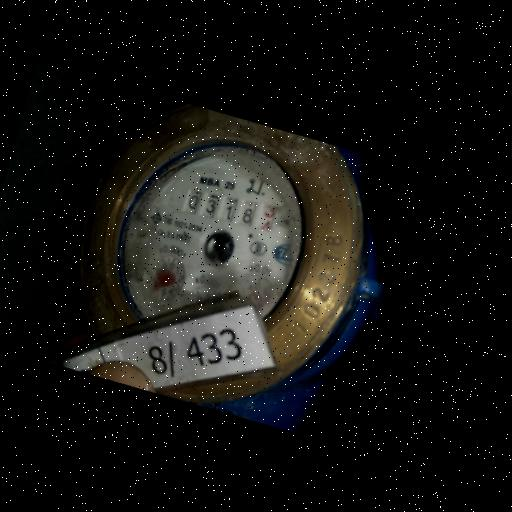0: (183, 188, 200, 214)
1: (220, 196, 236, 222)
3: (258, 203, 277, 231), (201, 192, 219, 218)
8: (237, 200, 256, 226)
border_water_meter_number: (177, 178, 282, 240)
